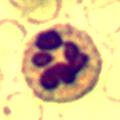neutrophil: (19, 24, 106, 106)
